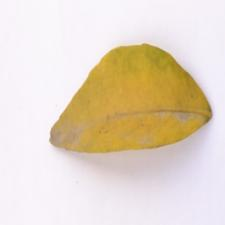Greening: (83, 46, 202, 156)
